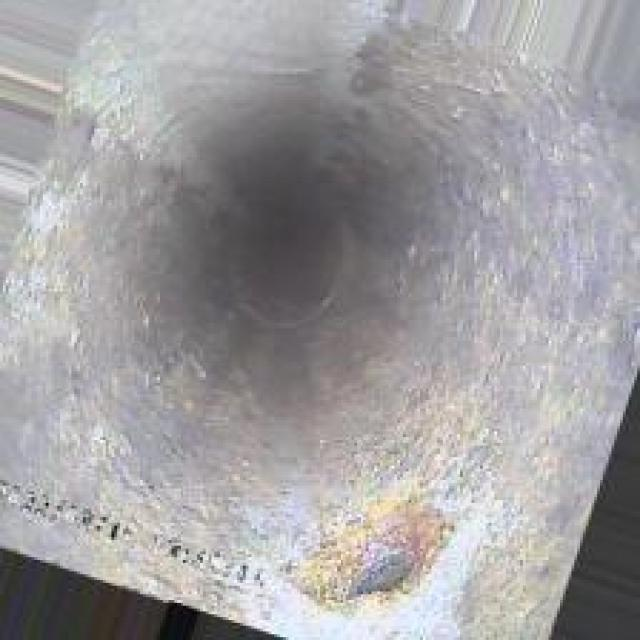ferrule: (303, 514, 446, 597)
